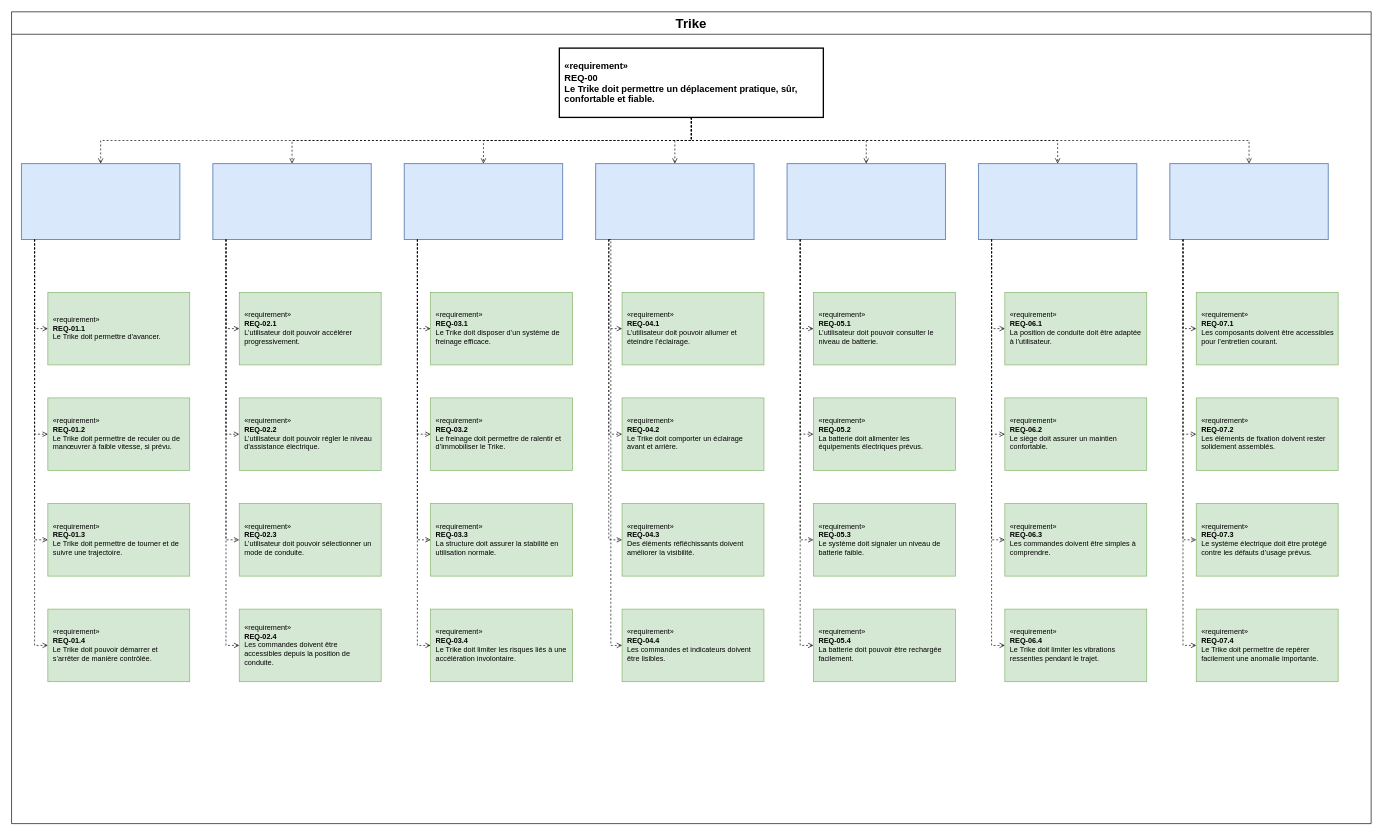
This 1383x835 diagram has some shape labels left out. The shapes that lost their labels are listed below. From the top down, each one's centre as x and y in pixels, then its label:
the point at 100,201: «requirement» REQ-01 Déplacement
the point at 291,201: «requirement» REQ-02 Commandes
the point at 483,201: «requirement» REQ-03 Sécurité
the point at 674,201: «requirement» REQ-04 Visibilité
the point at 866,201: «requirement» REQ-05 Énergie
the point at 1057,201: «requirement» REQ-06 Confort
the point at 1248,201: «requirement» REQ-07 Entretien et fiabilité
